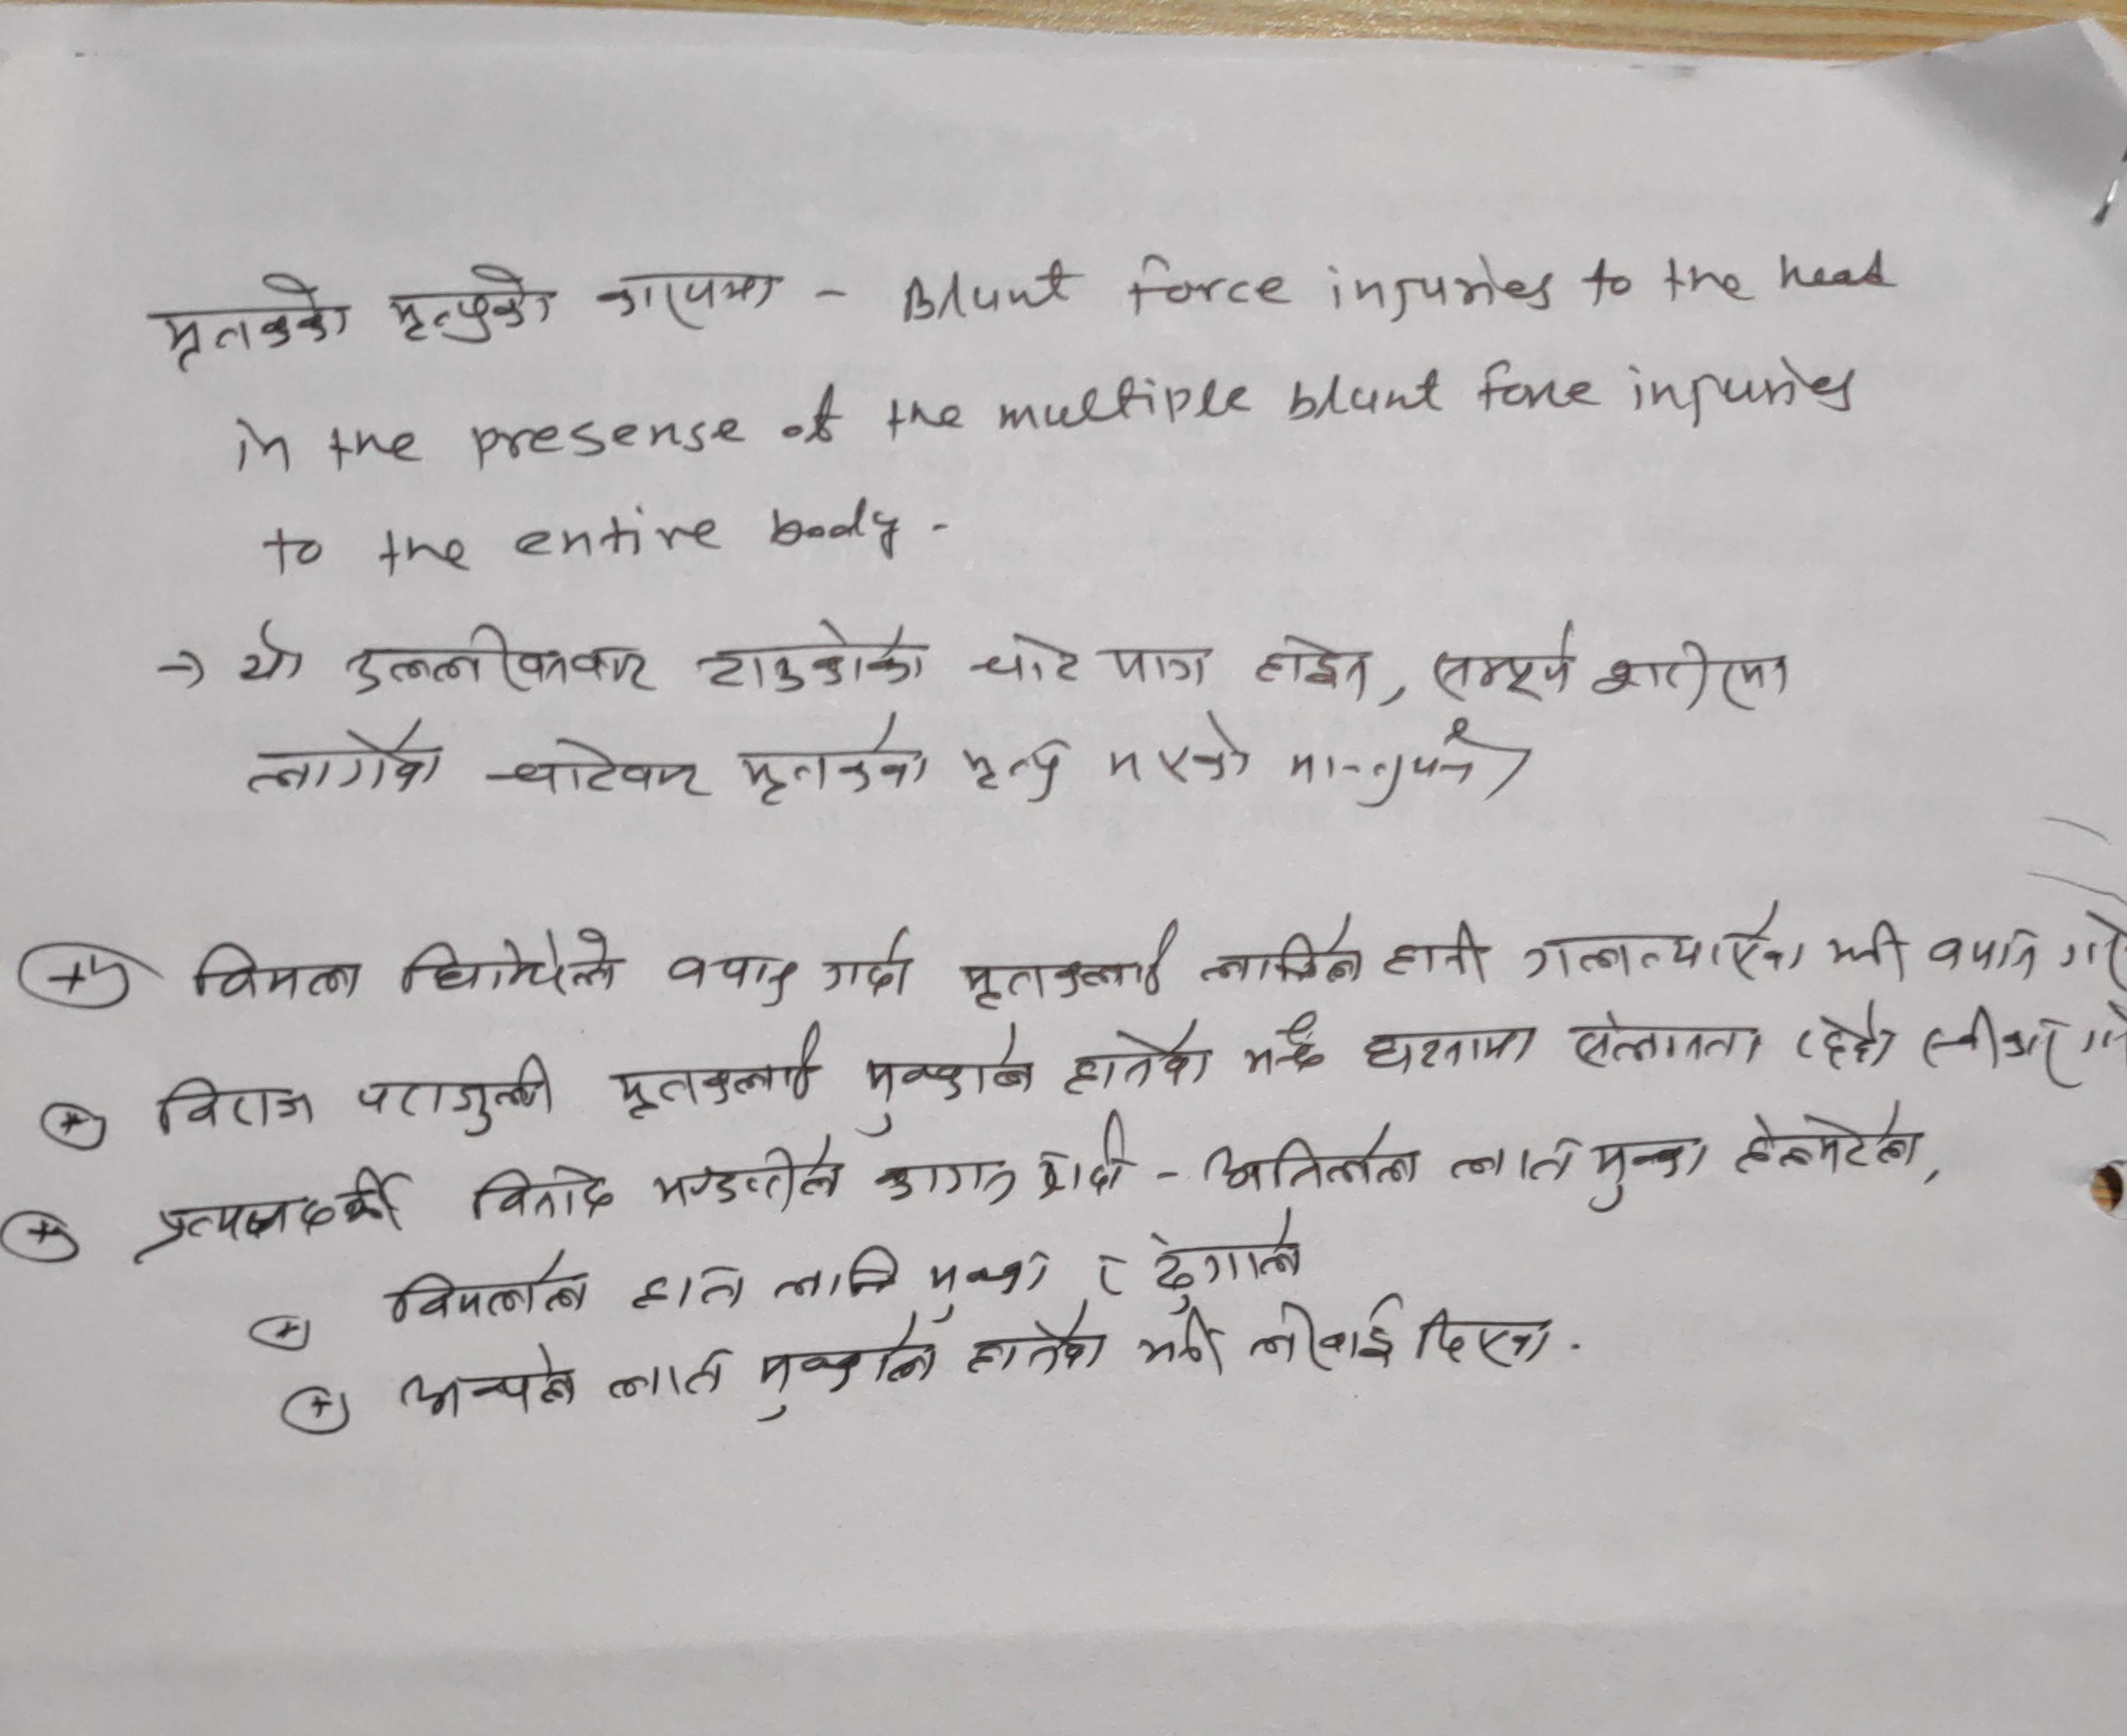text: (124, 1160, 419, 1264), (1518, 897, 1816, 991), (1279, 717, 1535, 816), (336, 620, 654, 699), (608, 1017, 821, 1130), (952, 915, 1189, 1015), (852, 1021, 1042, 1137), (143, 272, 353, 369), (749, 1326, 943, 1429), (392, 924, 631, 1003), (1592, 636, 1805, 724), (353, 1049, 555, 1143), (385, 1249, 588, 1339), (733, 712, 938, 800), (1138, 1206, 1307, 1312), (486, 733, 715, 809), (689, 623, 927, 694), (240, 719, 443, 800), (1920, 1000, 2083, 1098), (648, 1137, 852, 1213), (1733, 1107, 1926, 1187), (385, 260, 558, 348), (1207, 1128, 1433, 1196), (392, 1347, 588, 1423), (1194, 910, 1364, 996), (1562, 1007, 1765, 1077), (590, 260, 777, 336), (1062, 1017, 1217, 1104), (1426, 618, 1583, 699), (1247, 1294, 1399, 1376), (1106, 708, 1256, 789), (189, 940, 366, 1007), (155, 1070, 314, 1144), (465, 1155, 618, 1231), (1408, 1294, 1560, 1370), (1030, 1104, 1136, 1206), (654, 945, 807, 1014), (1357, 1019, 1548, 1074), (1581, 1130, 1710, 1210), (926, 1242, 1051, 1321), (963, 1319, 1109, 1385), (873, 1150, 1016, 1215), (1253, 629, 1374, 705), (1443, 1128, 1583, 1194), (770, 1242, 906, 1307), (1791, 1000, 1901, 1079), (602, 1340, 738, 1404), (1385, 920, 1498, 993), (1929, 918, 2044, 989), (973, 625, 1085, 698), (959, 733, 1065, 809), (821, 925, 924, 1003), (1825, 913, 1917, 994), (1139, 1310, 1226, 1386), (629, 1263, 754, 1314), (2055, 910, 2127, 996), (1244, 1014, 1328, 1086), (1102, 639, 1212, 692), (231, 622, 311, 692), (1086, 1249, 1131, 1298)
